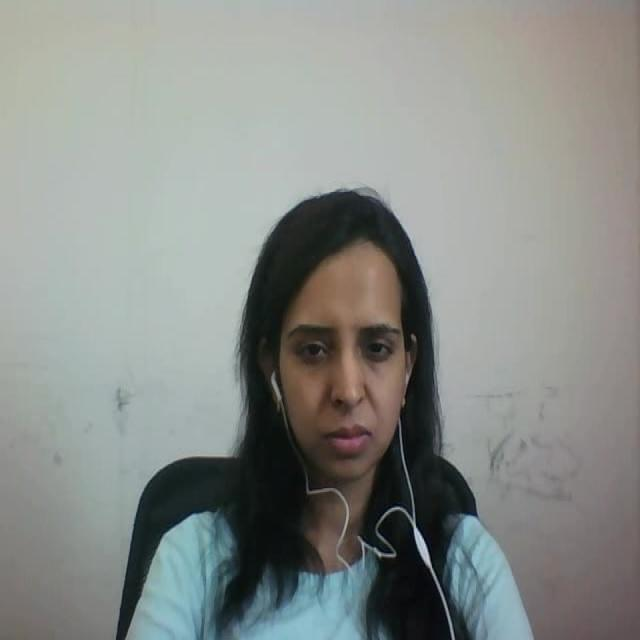Engaged: (216, 164, 458, 516)
